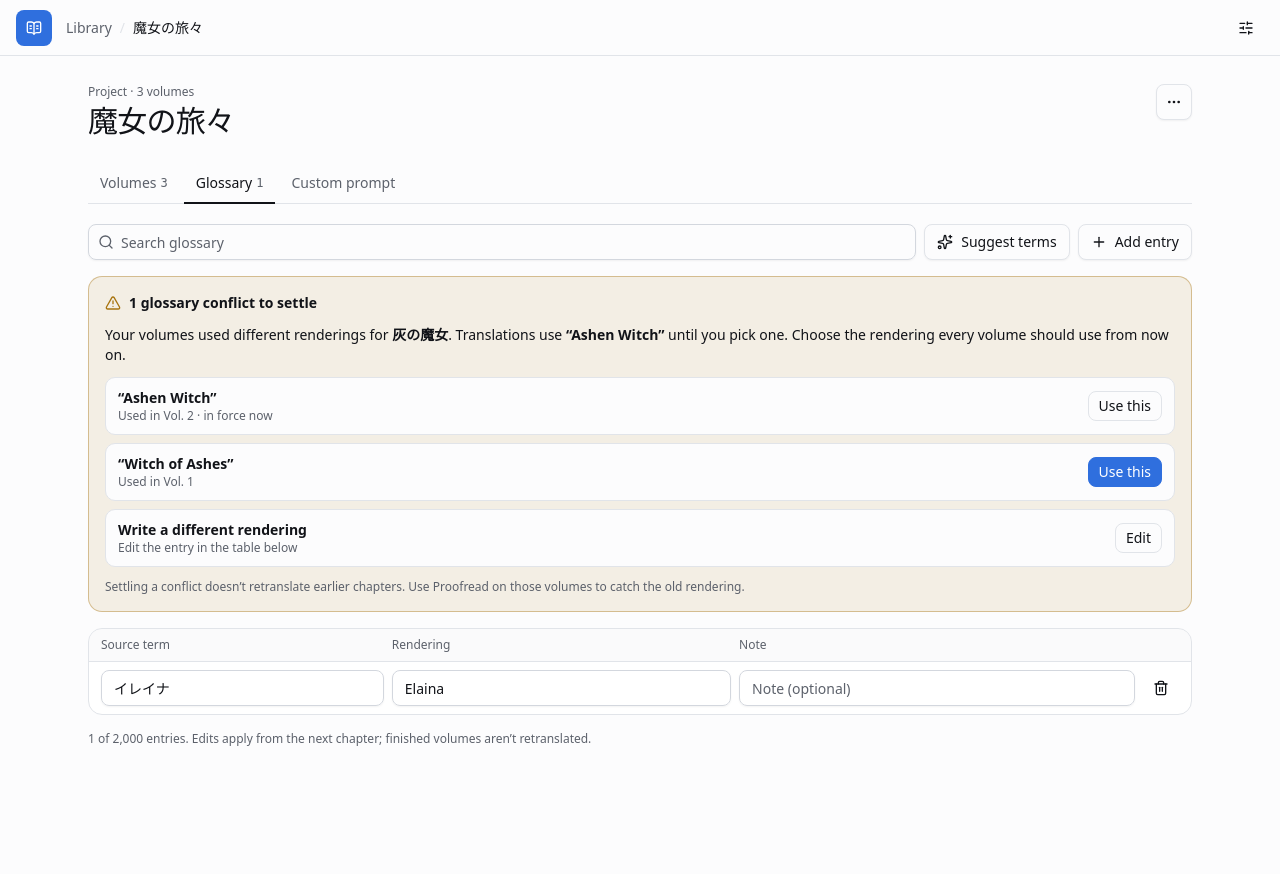
suggesting from all volumes › shows the volume count, requests and characters before starting
The width and height of the screenshot is (1280, 874).
Click the button "Suggest terms".
click(997, 242)  # box [924, 224, 1070, 260]
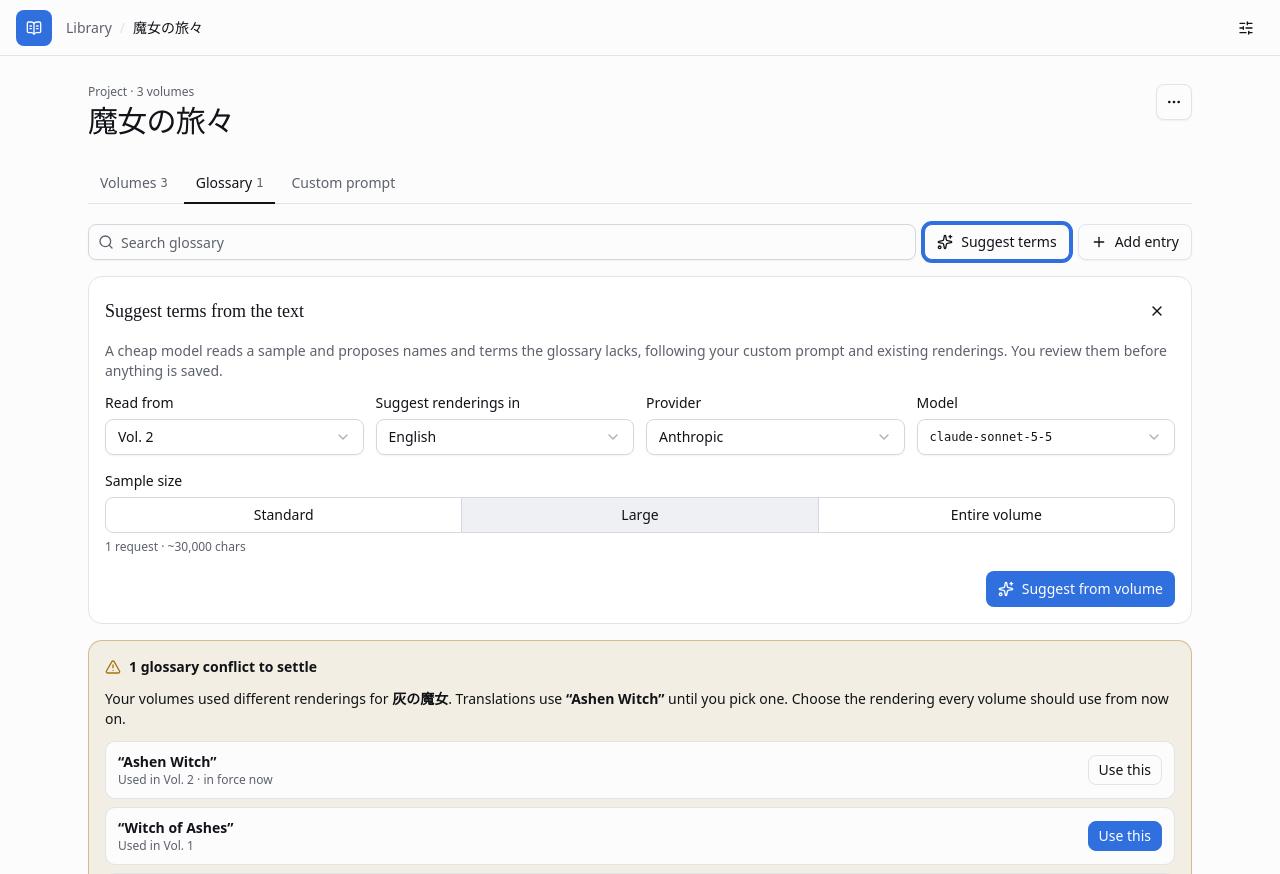
Now the text "1 request · ~30,000 chars" is shown, box [105, 538, 246, 555]
Click the dropdown named "Read from".
click(234, 437)  # box [105, 419, 364, 455]
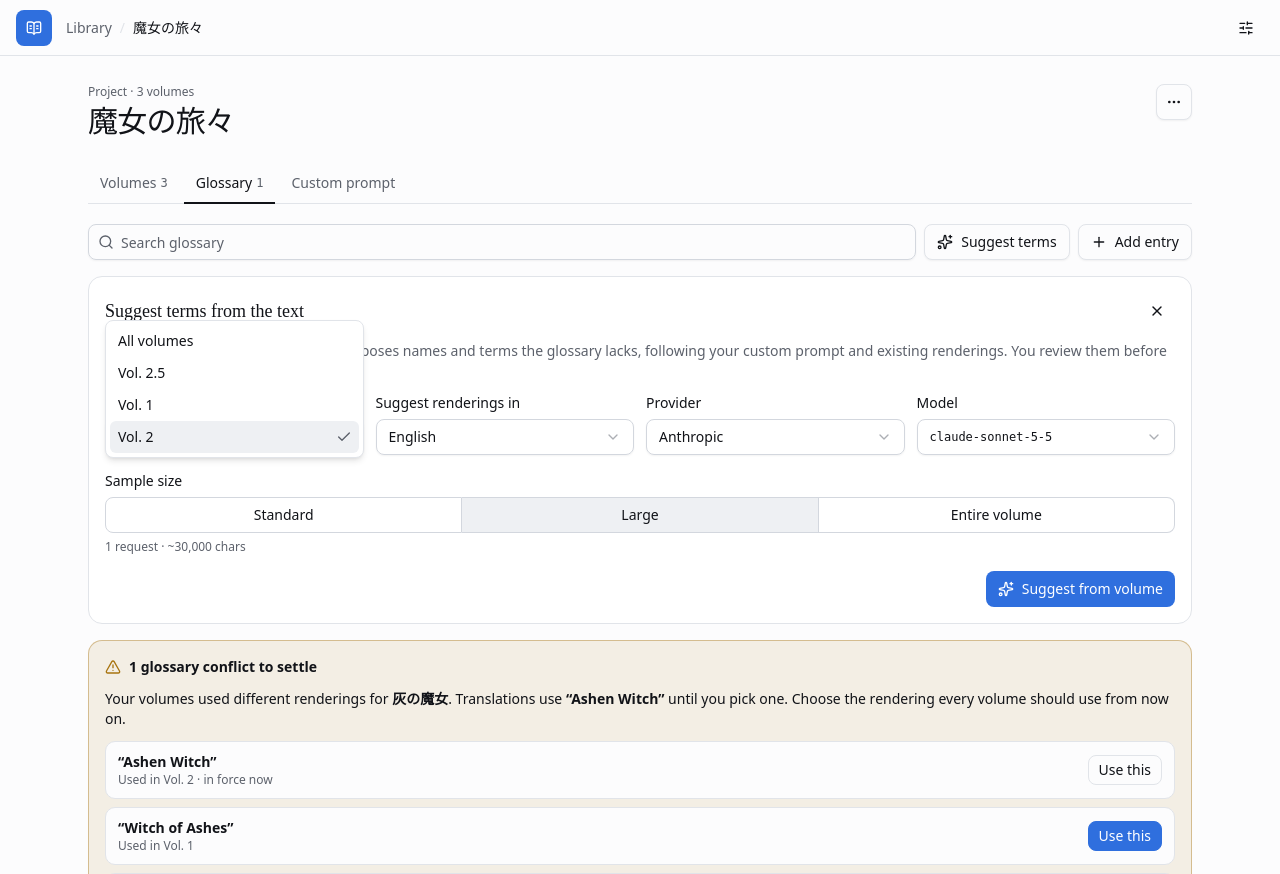
Click the option "All volumes".
click(156, 340)  # box [118, 331, 193, 350]
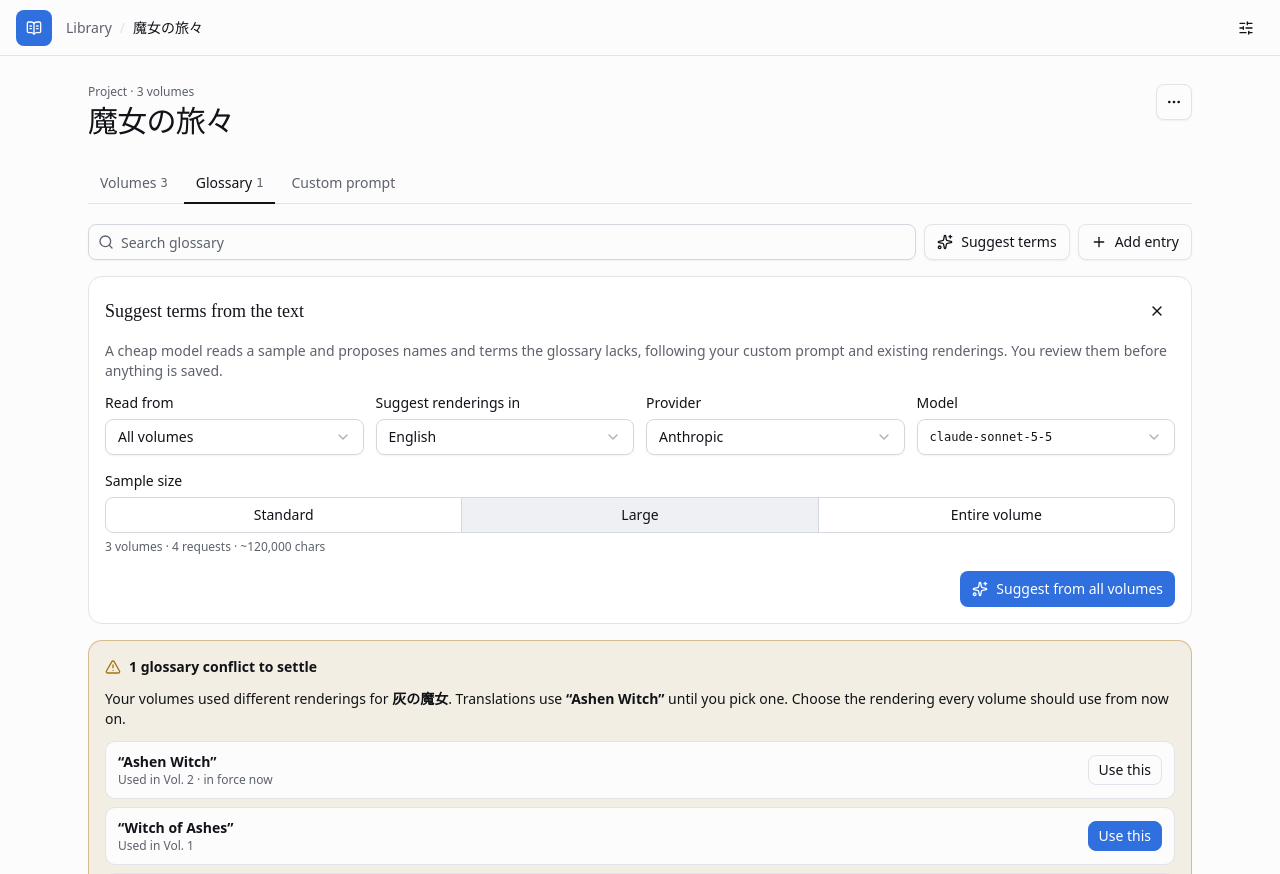
Now the text "3 volumes · 4 requests · ~120,000 chars" is shown, box [105, 538, 325, 555]
